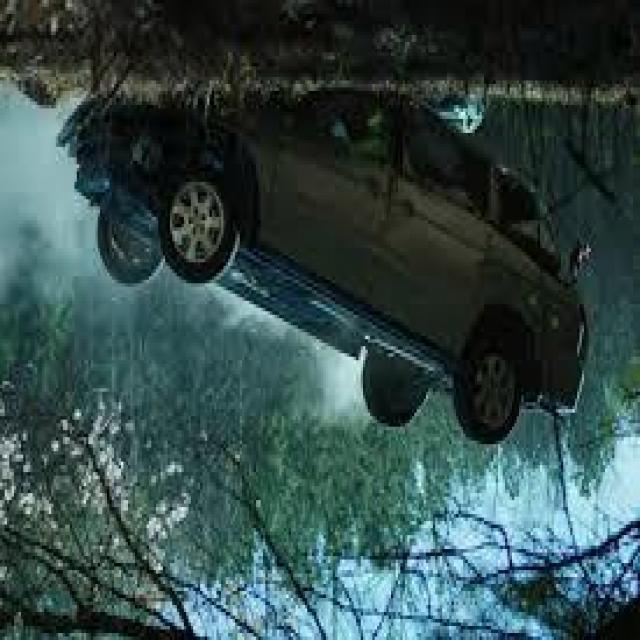severe: (54, 90, 590, 457)
